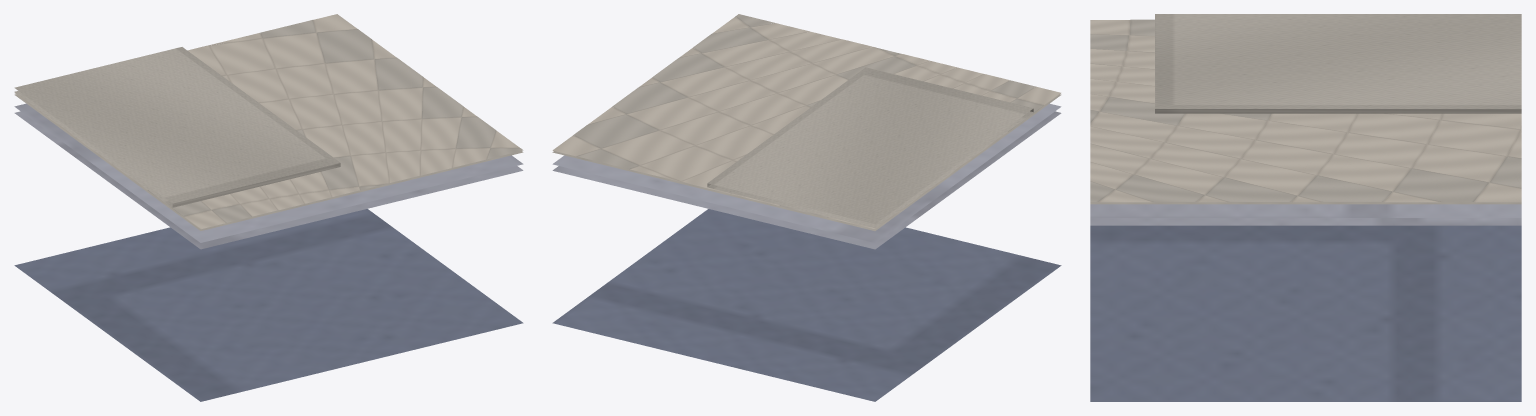
The model's file is high_crown_fracture_34.obj.
3 renders of one model, left to right at view 1: azimuth 30°, elevation 25°; view 2: azimuth 150°, elevation 25°; view 3: azimuth 270°, elevation 25°, orthographic. The views are drawn at different scales.
Visible parts, largest first — view 1: ArenaFracture34; view 2: ArenaFracture34; view 3: ArenaFracture34.
Part boxes in pixels (x1,y1,x2,y2): ArenaFracture34: (14,14,523,401); ArenaFracture34: (552,14,1061,401); ArenaFracture34: (1090,14,1521,401).
Bounding box in the file's own units: 10 × 5.26 × 10.
4 materials, 4 textured.
